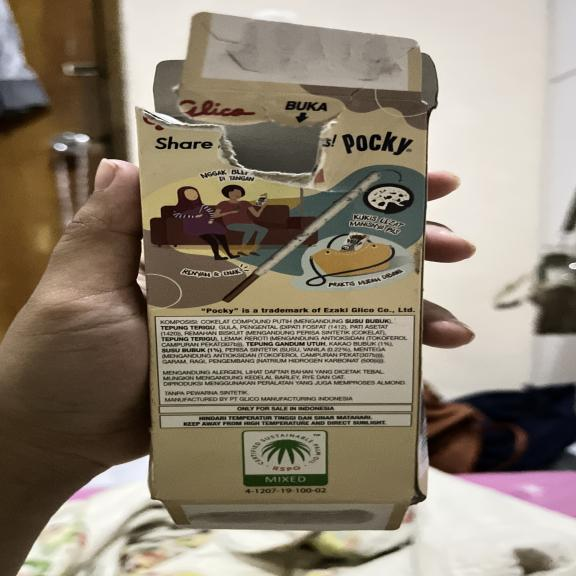Kertas: (135, 103, 437, 503)
